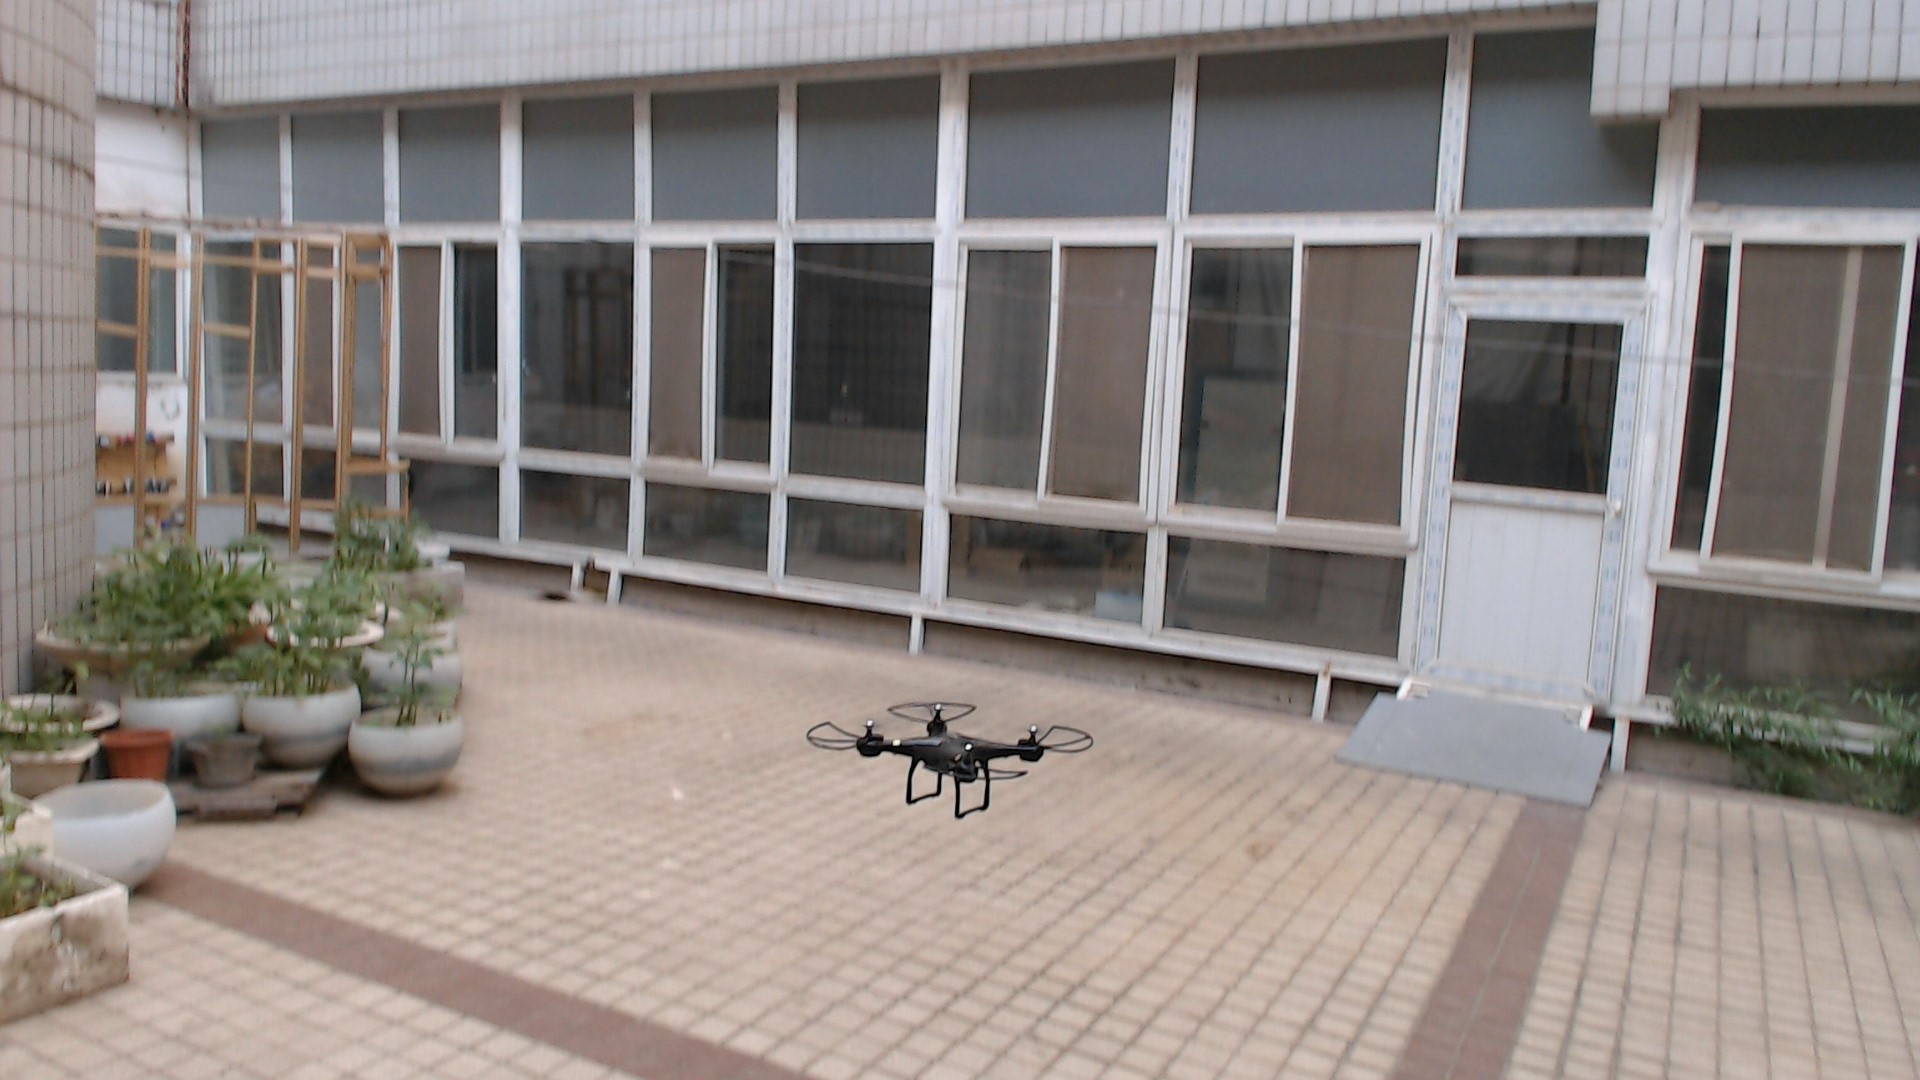drone: (791, 654, 1104, 843)
